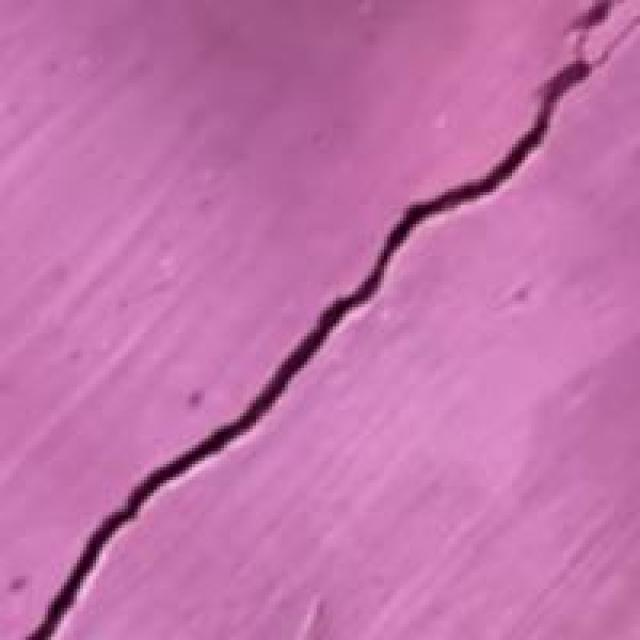crack: (0, 0, 621, 637)
